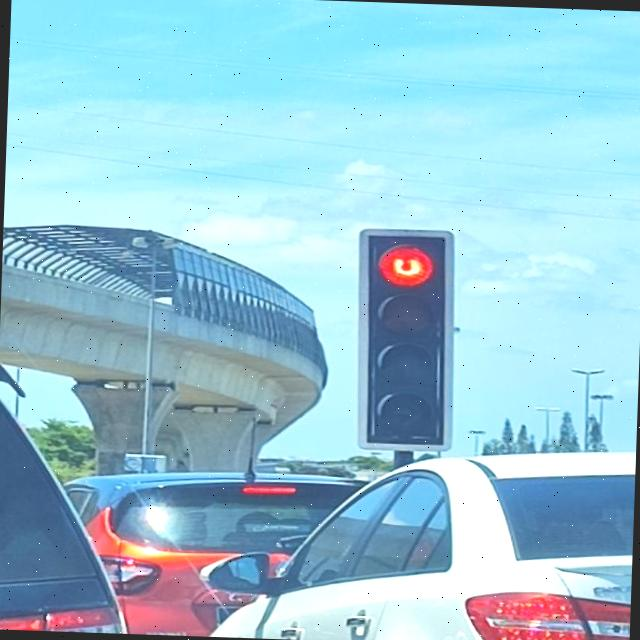red_light: (356, 228, 459, 454)
